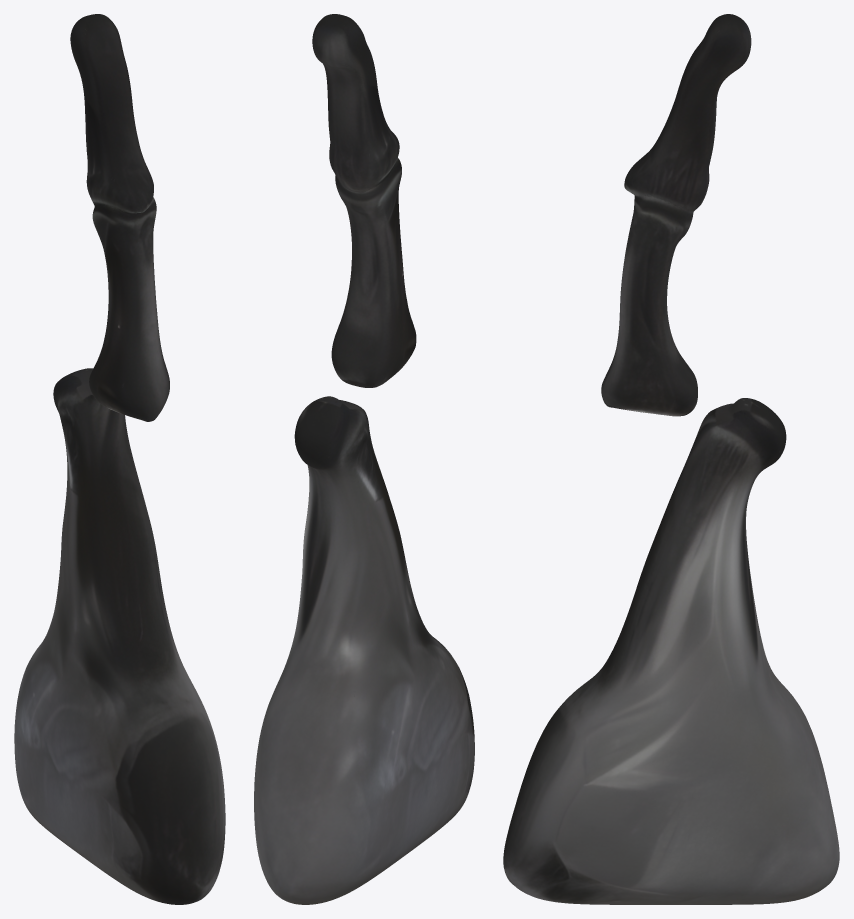
Rendered from Fracture_dislocation_shaded.glb.
3 renders of one model, left to right at view 1: azimuth 30°, elevation 25°; view 2: azimuth 150°, elevation 25°; view 3: azimuth 270°, elevation 25°, orthographic. The views are drawn at different scales.
Parts seen in each view (by area): view 1: model; view 2: model; view 3: model.
Part boxes in pixels (box(x1,y1,x2,y2)): model: box(14, 14, 225, 904); model: box(254, 14, 474, 904); model: box(503, 14, 839, 904).
Size of the model in its own units: 0.2892 by 1.9 by 0.659.
Materials: 1 (1 with a texture image).
